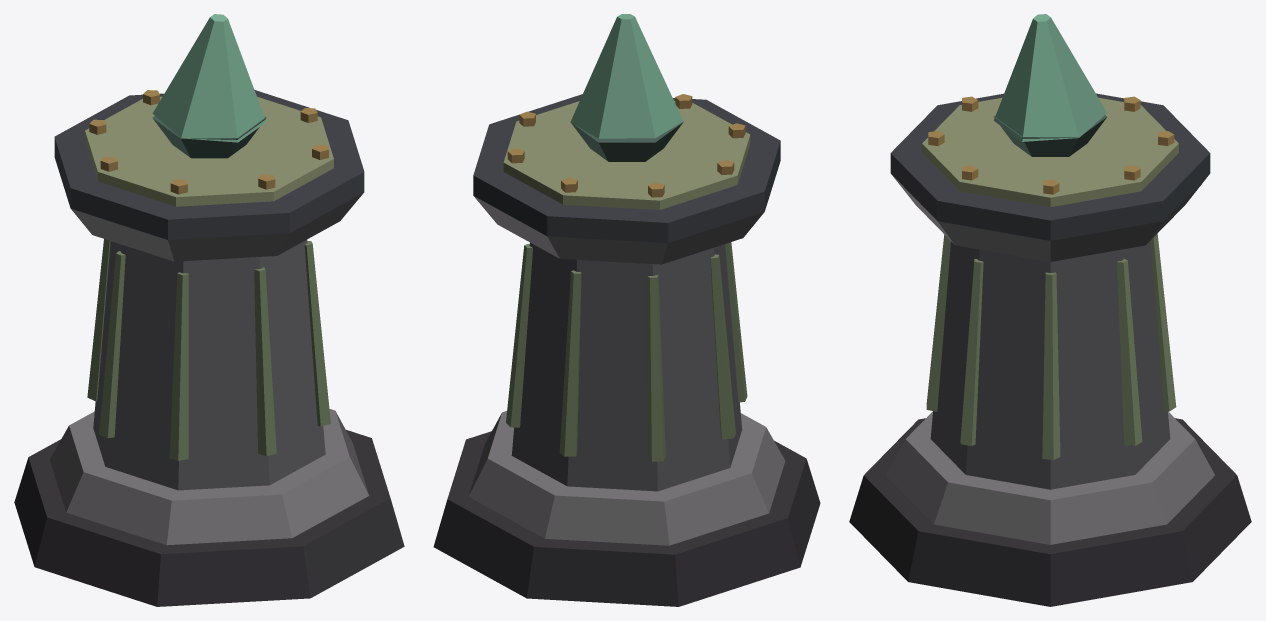
File: rune-plinth.glb
The picture shows the model from 3 angles, left to right: view 1: azimuth 30°, elevation 25°; view 2: azimuth 150°, elevation 25°; view 3: azimuth 270°, elevation 25°; orthographic projection.
Parts seen in each view (by area): view 1: Verdigris rune plinth; view 2: Verdigris rune plinth; view 3: Verdigris rune plinth.
Part boxes in pixels (x1=…): Verdigris rune plinth: x1=14, y1=14, x2=404, y2=606; Verdigris rune plinth: x1=433, y1=14, x2=820, y2=606; Verdigris rune plinth: x1=849, y1=14, x2=1251, y2=606.
Bounding box in the file's own units: 0.806 × 1.12 × 0.806.
